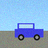vehicle: (15, 23, 43, 40)
